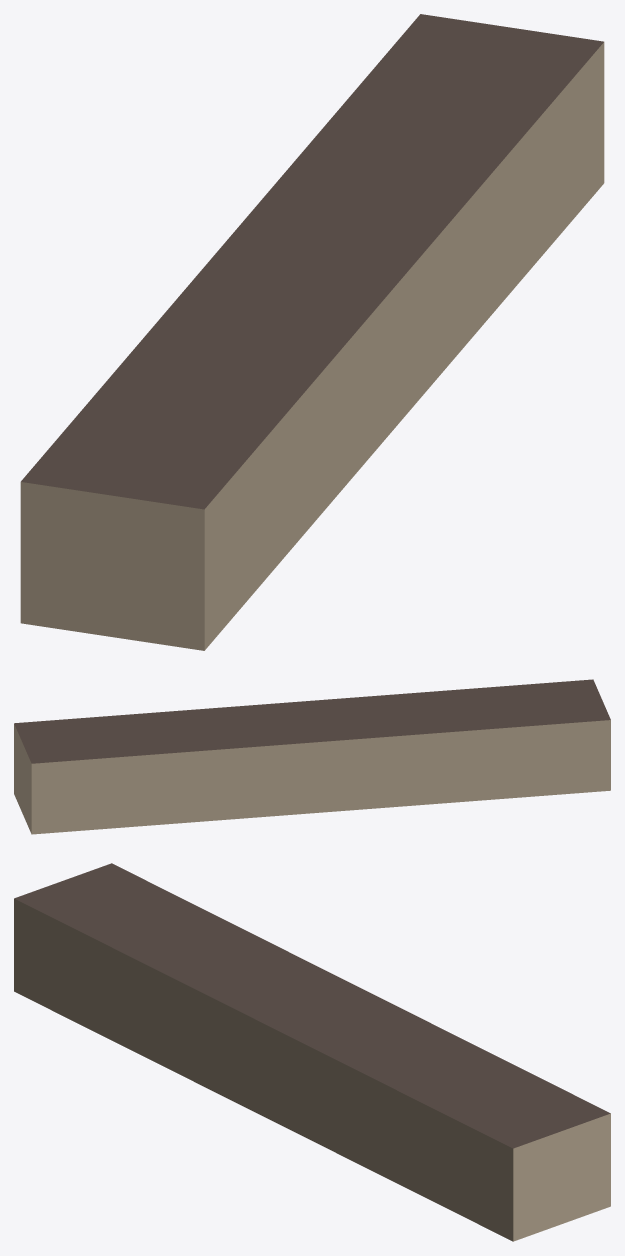
The picture shows the model from 3 angles, top to bottom: view 1: azimuth 30°, elevation 25°; view 2: azimuth 150°, elevation 25°; view 3: azimuth 270°, elevation 25°; orthographic projection. The views are drawn at different scales.
Parts seen in each view (by area): view 1: HP-w859488716; view 2: HP-w859488716; view 3: HP-w859488716.
Part boxes in pixels (<box>): HP-w859488716: <box>20,14,604,650</box>; HP-w859488716: <box>14,679,610,834</box>; HP-w859488716: <box>14,863,610,1241</box>.
Bounding box in the file's own units: 59.18 × 9 × 52.32.
